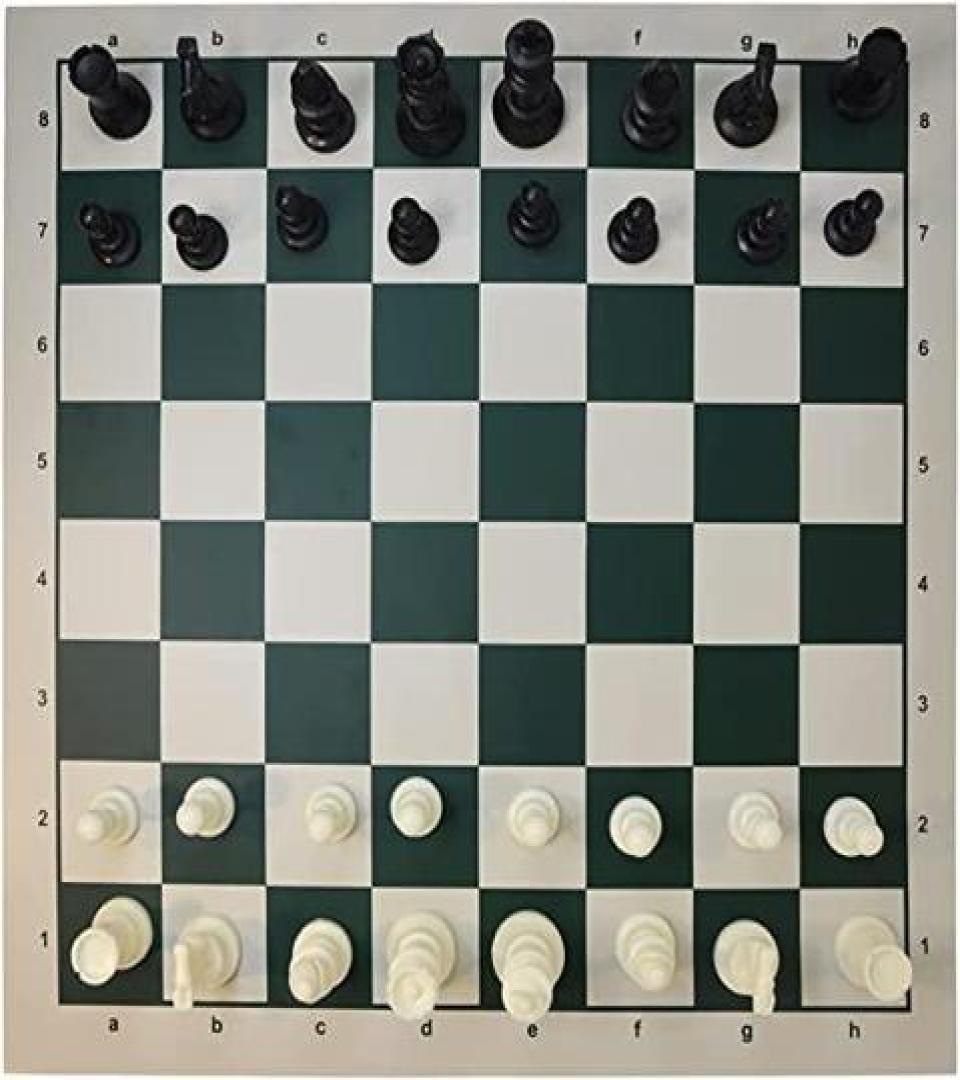xcorner: (779, 164, 816, 205), (781, 398, 818, 439), (783, 633, 820, 674), (150, 865, 186, 906), (256, 865, 292, 906), (362, 748, 398, 789), (363, 866, 399, 907), (467, 631, 503, 672), (468, 749, 504, 790), (468, 867, 504, 908), (571, 514, 607, 555), (572, 631, 608, 672), (573, 749, 609, 790), (674, 163, 710, 204), (676, 280, 712, 321), (676, 397, 712, 438), (678, 514, 714, 555), (678, 632, 714, 673), (678, 750, 714, 791), (780, 281, 816, 322), (782, 515, 818, 556), (150, 159, 186, 199), (150, 276, 186, 316), (150, 393, 186, 433), (150, 511, 186, 551), (150, 628, 186, 668), (150, 746, 186, 786), (256, 277, 292, 317), (256, 394, 292, 434), (256, 511, 292, 551), (256, 629, 292, 669), (256, 747, 292, 787), (360, 160, 396, 200), (360, 277, 396, 317), (361, 395, 397, 435), (361, 512, 397, 552), (362, 630, 398, 670), (465, 161, 501, 201), (465, 278, 501, 318), (466, 395, 502, 435), (466, 513, 502, 553), (569, 162, 605, 202), (570, 279, 606, 319), (571, 396, 607, 436), (574, 869, 610, 909), (680, 869, 716, 909), (784, 752, 820, 792), (786, 870, 822, 910), (255, 160, 290, 200)
